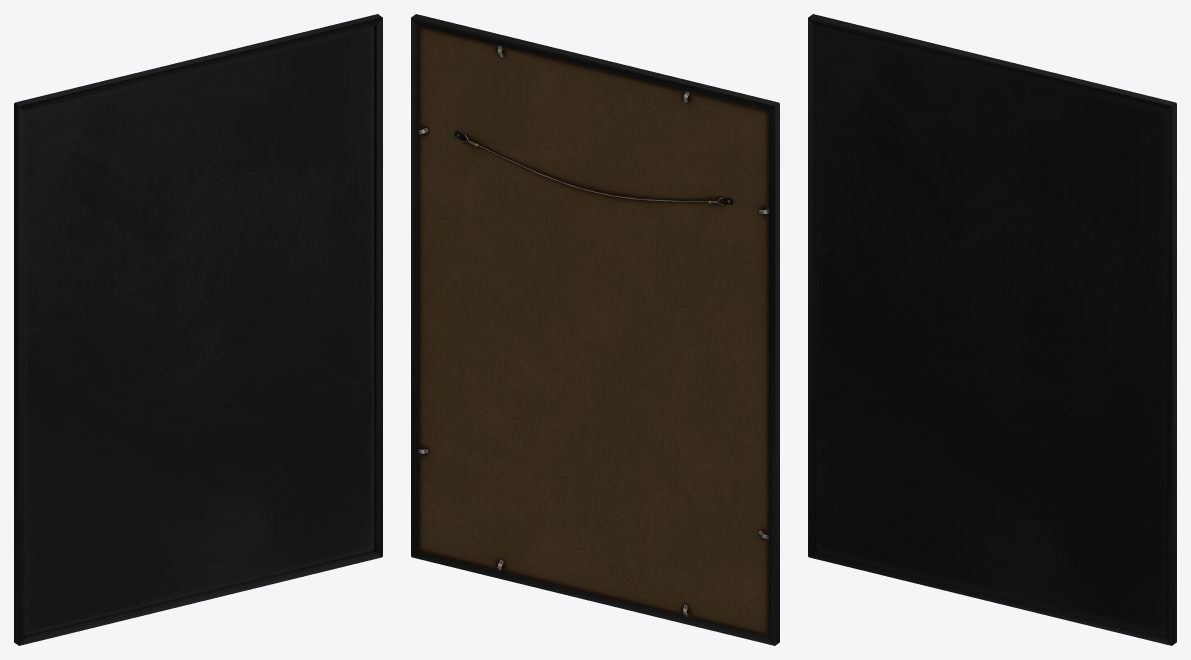
File: frame_a.glb
3 views of the same model, side by side, from view 1: azimuth 30°, elevation 25°; view 2: azimuth 150°, elevation 25°; view 3: azimuth 330°, elevation 25° (orthographic).
Parts seen in each view (by area): view 1: frame_a_m0; view 2: frame_a_m0; view 3: frame_a_m0.
Boxes of the visible parts, x1,y1,x2,y2 form: frame_a_m0: (14,14,382,645); frame_a_m0: (411,14,779,645); frame_a_m0: (808,14,1176,645).
Bounding box in the file's own units: 0.3748 × 0.5307 × 0.00961.
3 materials, 3 textured.
